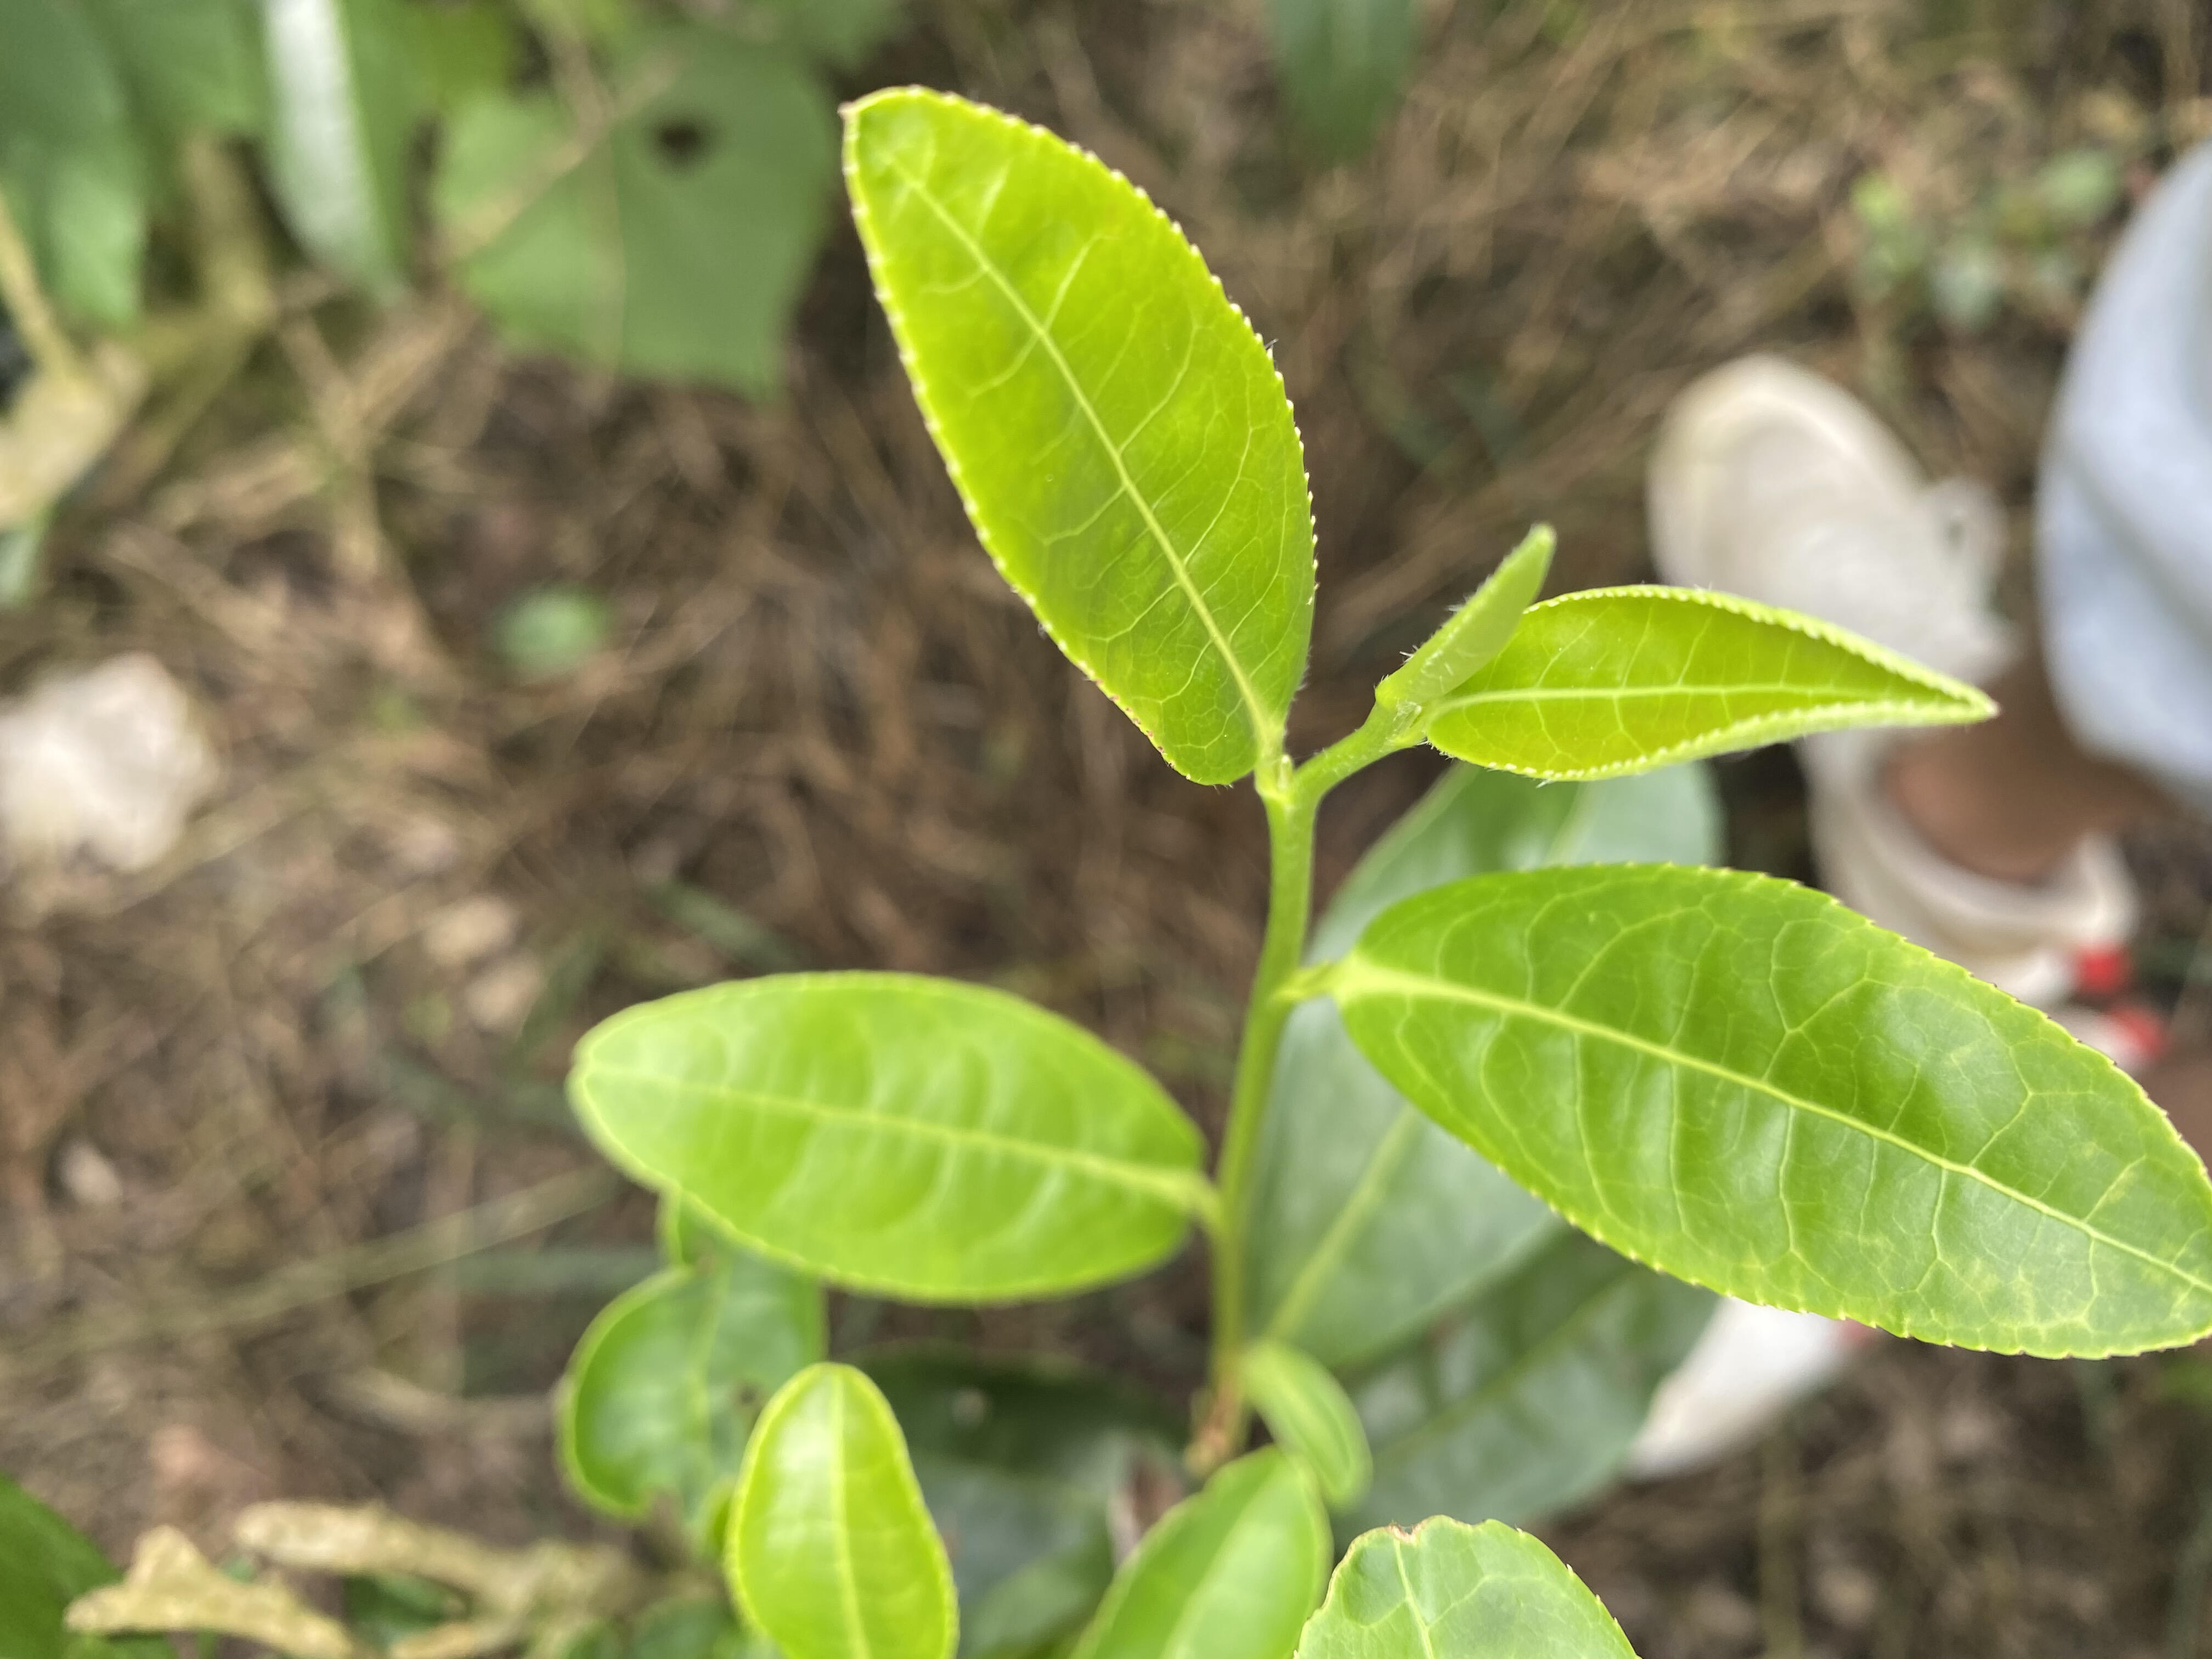healthy: (1339, 861, 2212, 1364), (838, 80, 1324, 788), (570, 969, 1212, 1309), (1426, 582, 2003, 786)
